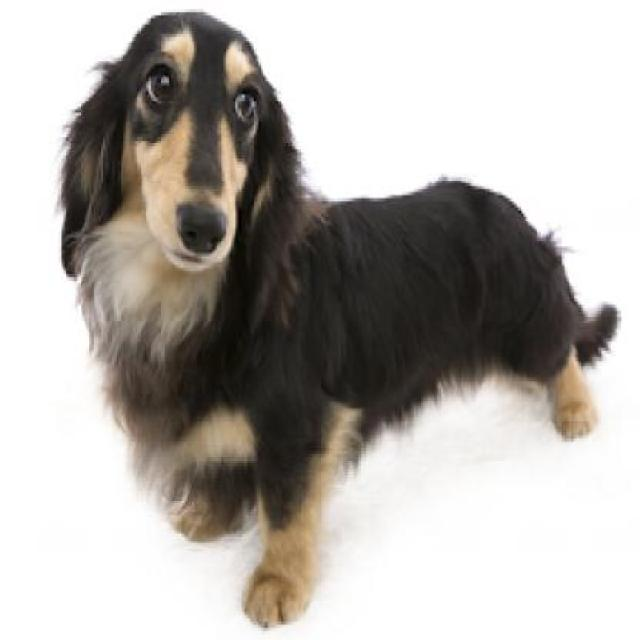Dog: (57, 11, 626, 637)
